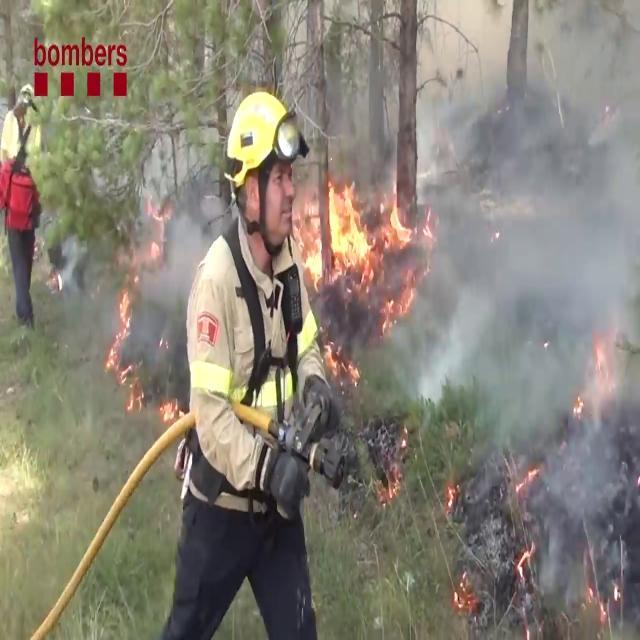Fire: (302, 168, 418, 290), (104, 275, 138, 385)
Smoke: (383, 2, 640, 536), (138, 192, 206, 382)
